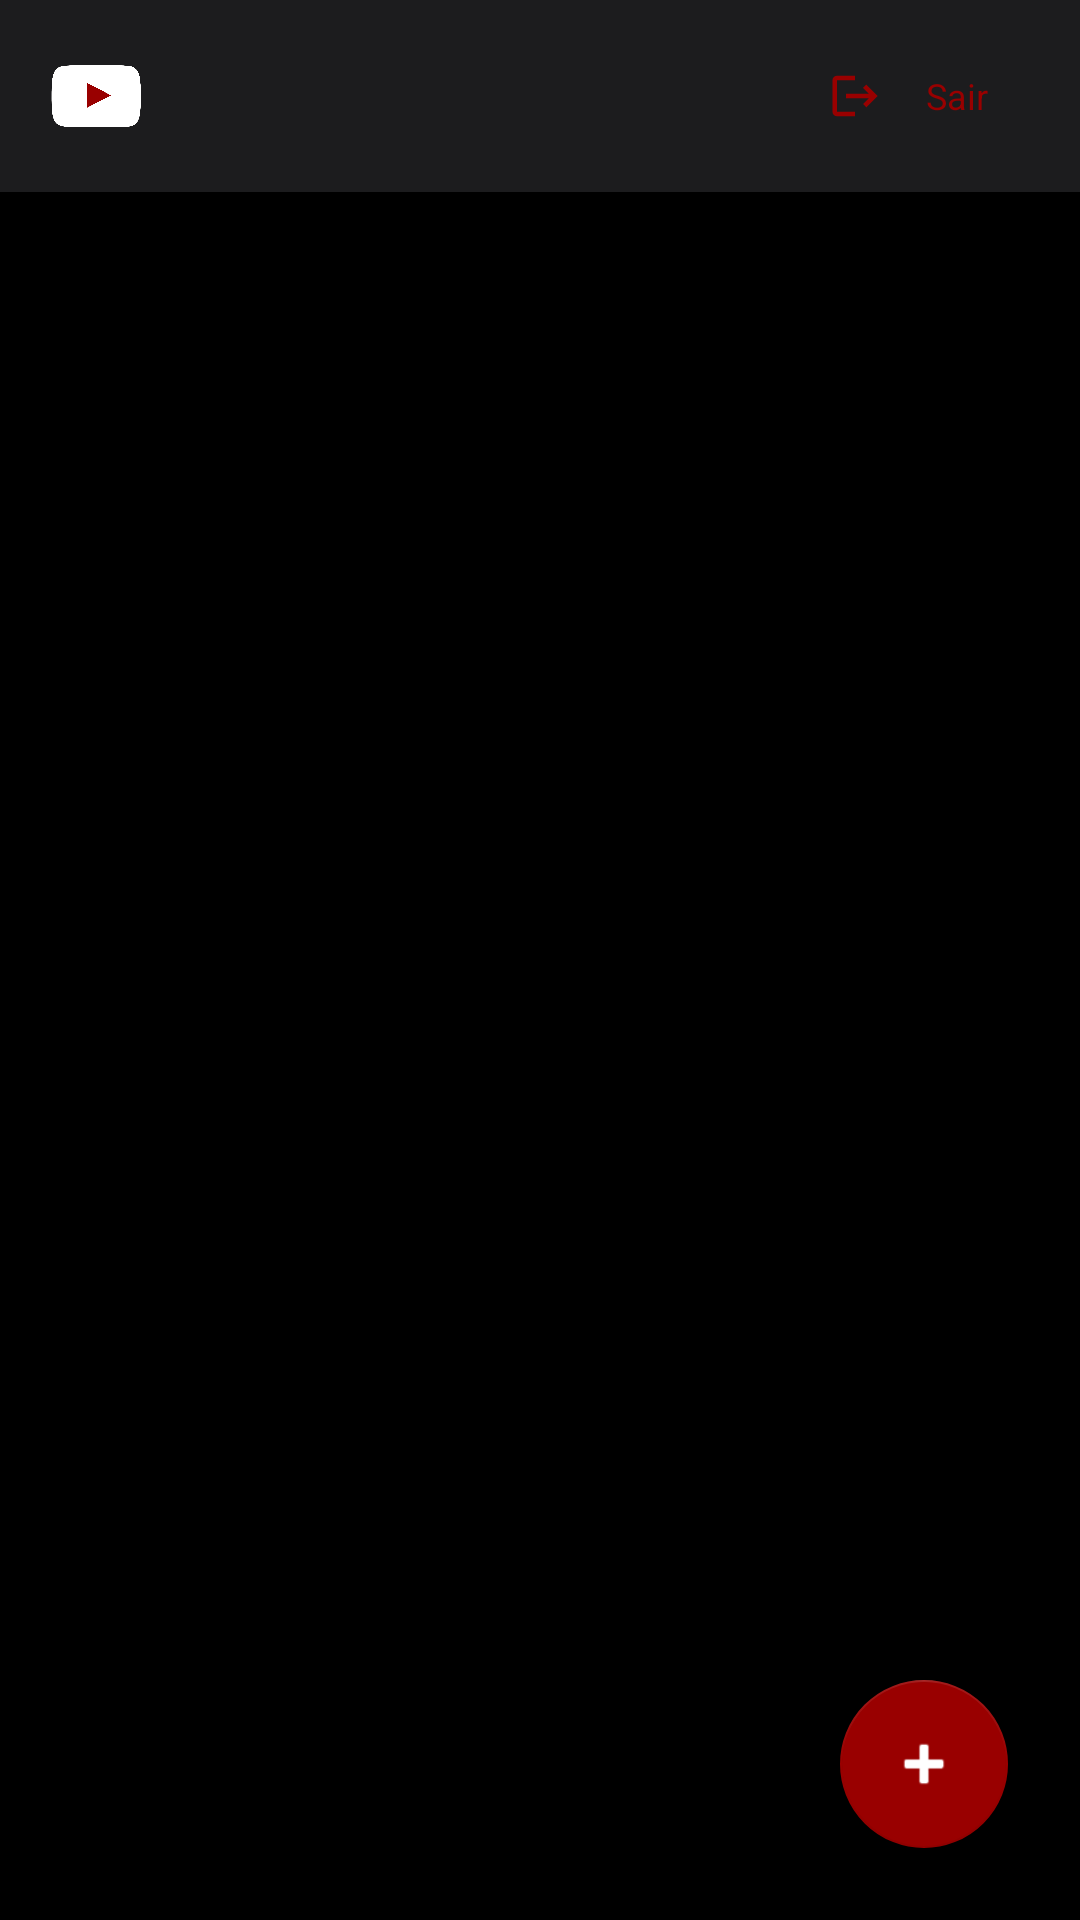

Locate icon controls on the screen. Image size 1080×1920, boxes as (x1, y1, x2, y2).
Adicionar filme: (840, 1680, 1008, 1848)
